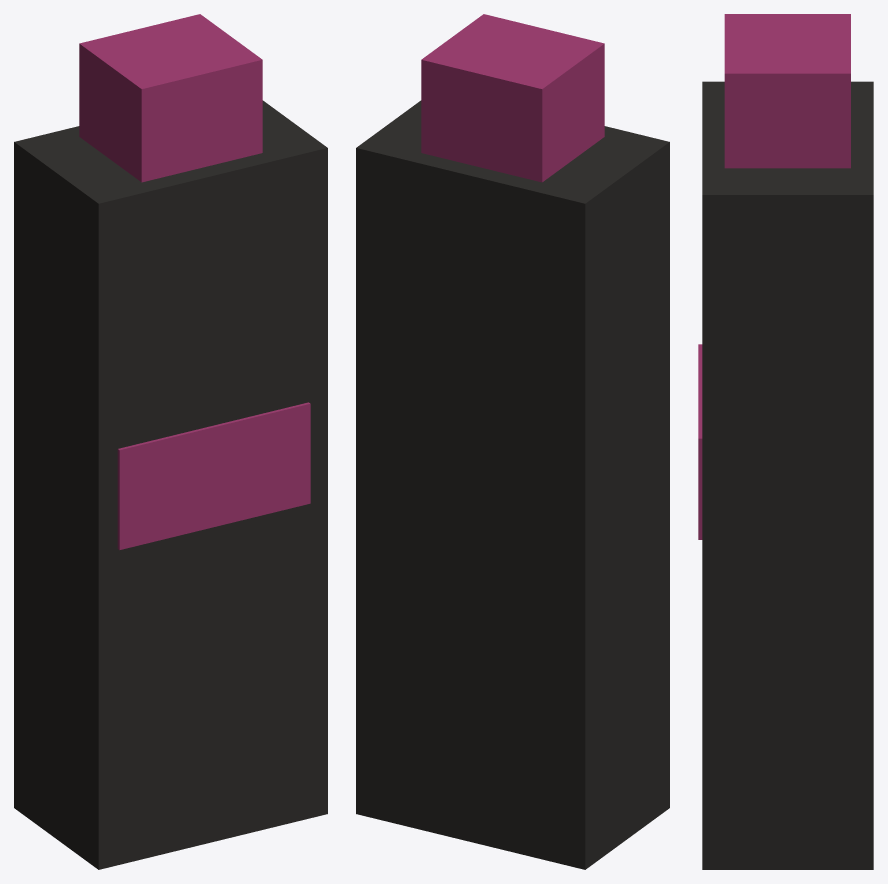
Rendered from body-wash-vibe.glb.
3 renders of one model, left to right at view 1: azimuth 30°, elevation 25°; view 2: azimuth 150°, elevation 25°; view 3: azimuth 270°, elevation 25°, orthographic.
Visible parts, largest first — view 1: plastic-dark, accent-magenta; view 2: plastic-dark, accent-magenta; view 3: plastic-dark, accent-magenta.
Part boxes in pixels (x1,y1,x2,y2): plastic-dark: [14, 100, 327, 869]; accent-magenta: [79, 14, 310, 549]; plastic-dark: [356, 100, 669, 869]; accent-magenta: [421, 14, 604, 182]; plastic-dark: [702, 81, 873, 869]; accent-magenta: [698, 14, 850, 539].
Bounding box in the file's own units: 0.072 × 0.228 × 0.047.
